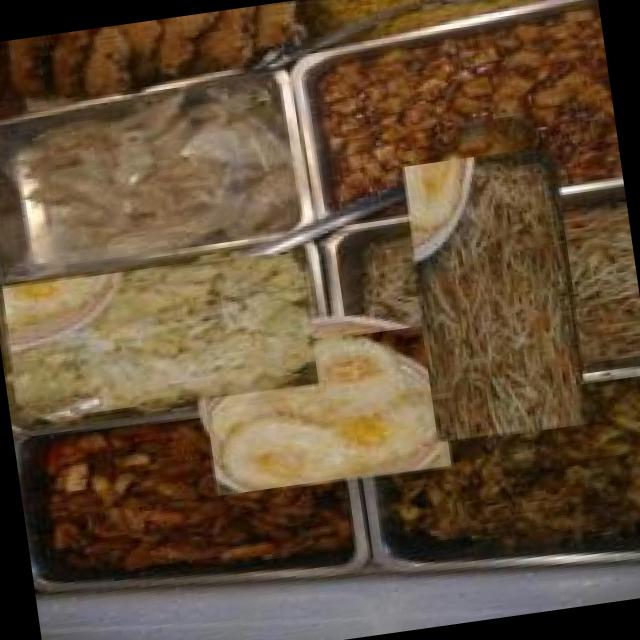chinese_cabbage: (0, 244, 321, 428)
fried_chicken: (8, 3, 288, 112)
fried_eggs: (198, 321, 456, 501)
mung_bean_sprouts: (372, 172, 620, 418)
